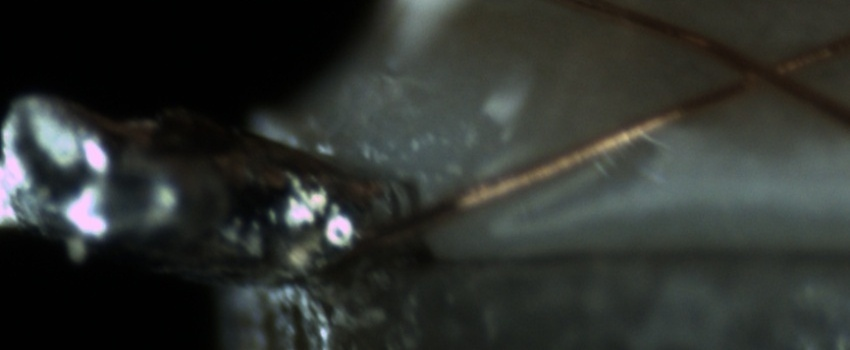CL: (719, 42, 810, 100)
